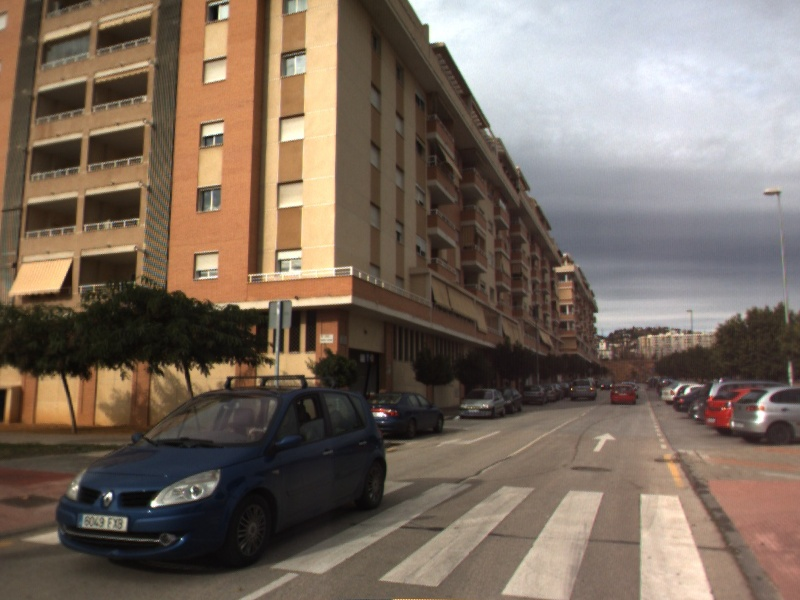STRAIGHT: (590, 430, 619, 454)
